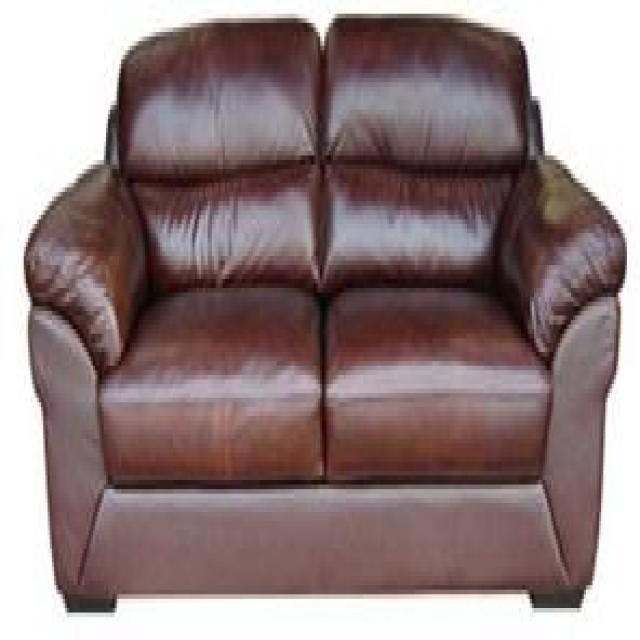sofa: (24, 15, 626, 609)
